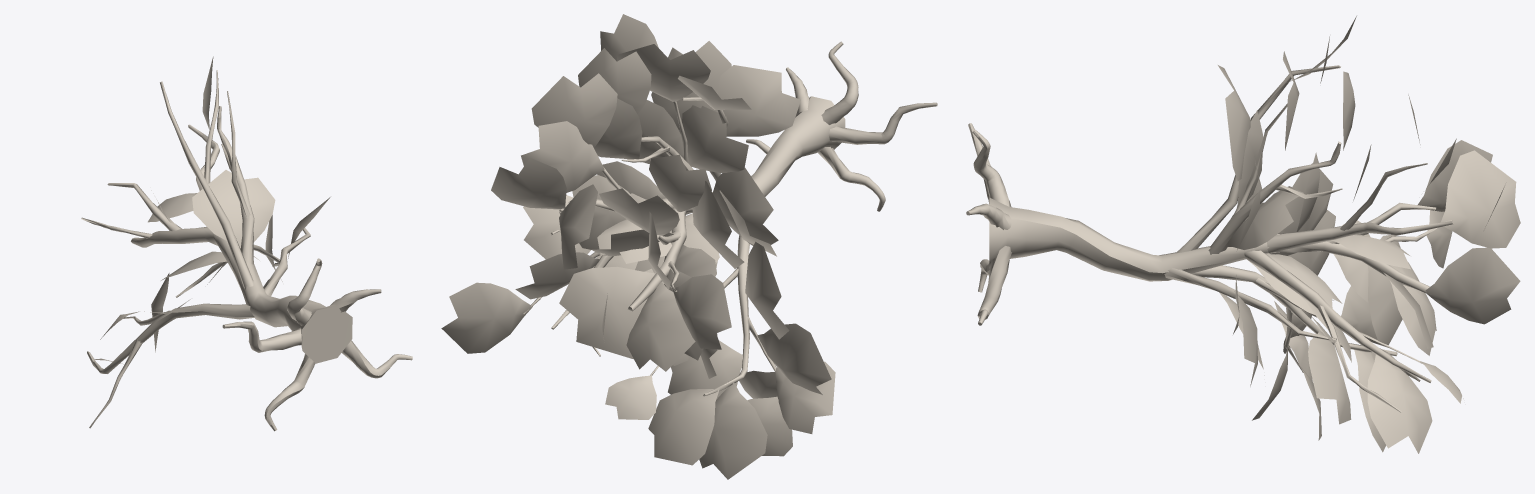
File: tree_2_original.glb
3 views of the same model, side by side, from view 1: azimuth 30°, elevation 25°; view 2: azimuth 150°, elevation 25°; view 3: azimuth 270°, elevation 25° (orthographic). The views are drawn at different scales.
Parts seen in each view (by area): view 1: world; view 2: world; view 3: world.
Part boxes in pixels (left/top/right/bottom): world: left=81, top=56, right=412, bottom=431; world: left=441, top=14, right=937, bottom=479; world: left=966, top=16, right=1520, bottom=453.
Bounding box in the file's own units: 1.27 × 1.53 × 1.64.
